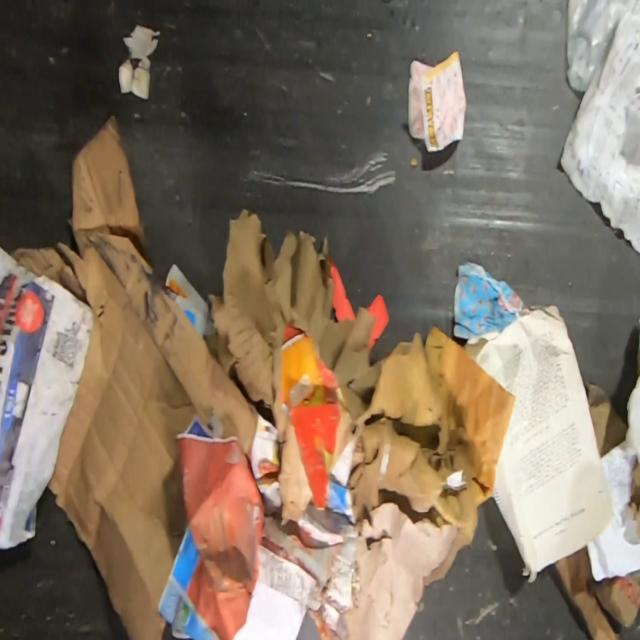cardboard: (203, 207, 516, 640), (11, 112, 258, 640), (554, 542, 640, 639), (586, 381, 628, 460)
soft_plastic: (565, 0, 640, 92)
